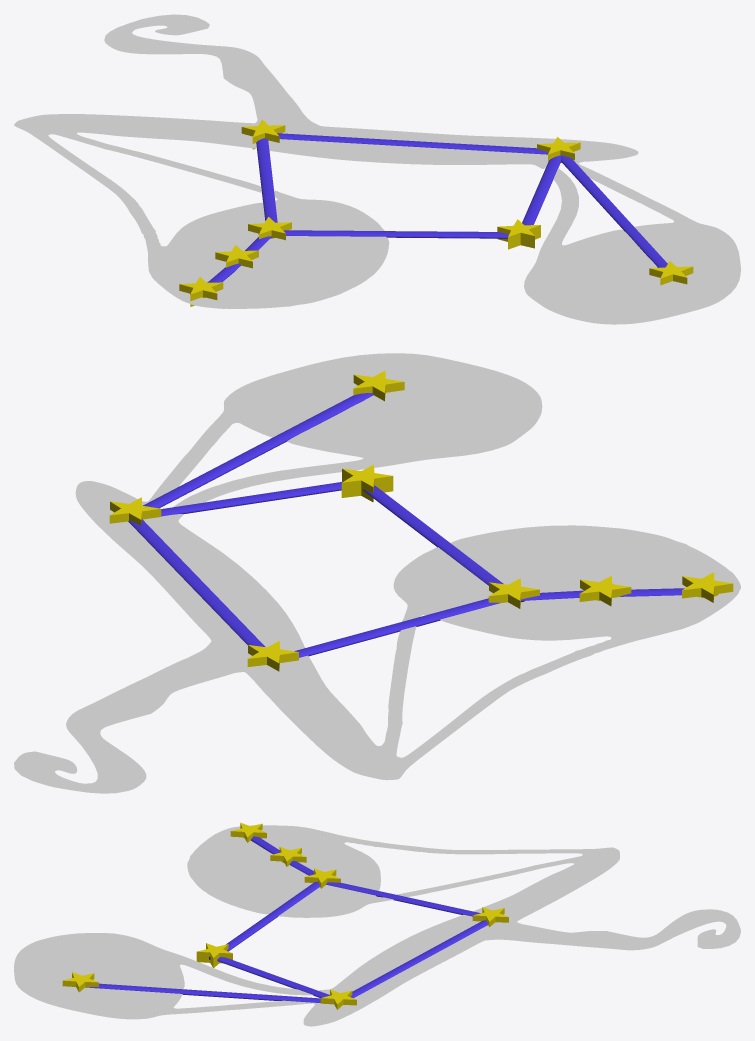
File: tenbin.glb
3 renders of one model, top to bottom at view 1: azimuth 30°, elevation 25°; view 2: azimuth 150°, elevation 25°; view 3: azimuth 270°, elevation 25°, orthographic. The views are drawn at different scales.
Visible parts, largest first — view 1: トレース, 円柱.016, 円柱, 円柱.009, 円柱.013, 円柱.008, 円.004, 円.008, 円.007, 円.018, 円.010, 円.001 (+1 smaller); view 2: トレース, 円柱, 円柱.016, 円柱.013, 円柱.009, 円柱.008, 円.004, 円.008, 円.018, 円.001, 円.013, 円.007 (+1 smaller); view 3: トレース, 円柱, 円柱.016, 円柱.013, 円柱.009, 円柱.008, 円.004, 円.013, 円.018, 円.008, 円.001, 円.007 (+1 smaller).
Part boxes in pixels (box(x1,y1,x2,y2)): トレース: box(14, 14, 740, 324); 円柱.016: box(277, 133, 548, 154); 円柱: box(560, 155, 667, 267); 円柱.009: box(283, 230, 508, 238); 円柱.013: box(256, 138, 277, 222); 円柱.008: box(522, 155, 561, 225); 円.004: box(497, 219, 540, 249); 円.008: box(179, 277, 223, 306); 円.007: box(649, 261, 693, 285); 円.018: box(241, 119, 285, 149); 円.010: box(248, 217, 291, 240); 円.001: box(215, 245, 258, 268); トレース: box(14, 353, 740, 793); 円柱: box(143, 393, 373, 508); 円柱.016: box(128, 519, 265, 646); 円柱.013: box(294, 598, 499, 657); 円柱.009: box(363, 485, 503, 585); 円柱.008: box(161, 481, 342, 516); 円.004: box(341, 464, 393, 501); 円.008: box(682, 572, 733, 602); 円.018: box(247, 641, 298, 671); 円.001: box(579, 575, 631, 606); 円.013: box(109, 497, 161, 525); 円.007: box(353, 370, 404, 401); トレース: box(14, 825, 740, 1026); 円柱: box(85, 983, 320, 1002); 円柱.016: box(350, 920, 487, 998); 円柱.013: box(326, 882, 480, 916); 円柱.009: box(209, 881, 319, 959); 円柱.008: box(217, 957, 330, 997); 円.004: box(196, 943, 232, 967); 円.013: box(320, 989, 356, 1009); 円.018: box(472, 907, 508, 926); 円.008: box(230, 822, 266, 842); 円.001: box(270, 847, 306, 866); 円.007: box(62, 972, 98, 992).
Size of the model in its own units: 37.18 by 0.8959 by 56.74.
